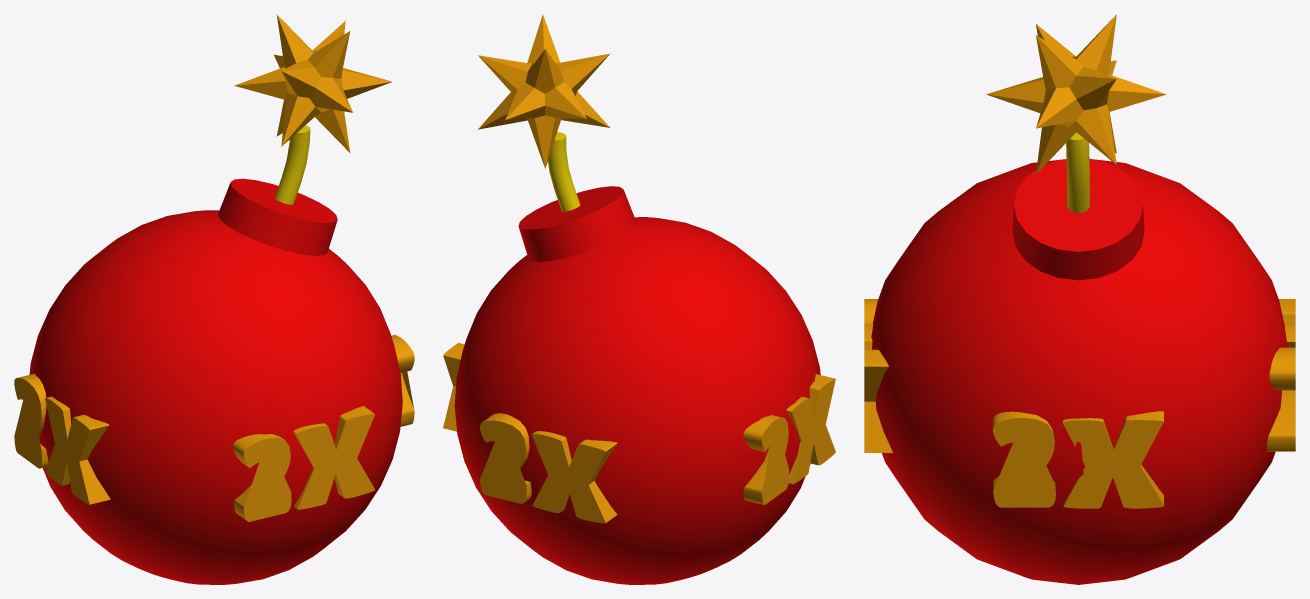
The model's file is 3d_bomb.fbx.
3 views of the same model, side by side, from view 1: azimuth 30°, elevation 25°; view 2: azimuth 150°, elevation 25°; view 3: azimuth 270°, elevation 25° (orthographic). The views are drawn at different scales.
Parts seen in each view (by area): view 1: Bomb1, x2; view 2: Bomb1, x2; view 3: Bomb1, x2.
Boxes of the visible parts, bbox=[...] form: Bomb1: bbox=[29, 14, 402, 584]; x2: bbox=[14, 335, 414, 521]; Bomb1: bbox=[454, 14, 820, 584]; x2: bbox=[443, 343, 835, 523]; Bomb1: bbox=[871, 14, 1288, 584]; x2: bbox=[864, 299, 1295, 508].
Size of the model in its own units: 0.75 by 1.15 by 0.7562.
